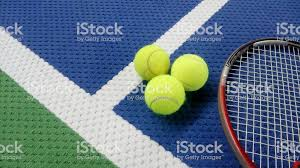tennis_ball: (144, 73, 185, 116), (170, 53, 209, 92), (134, 43, 170, 82)
